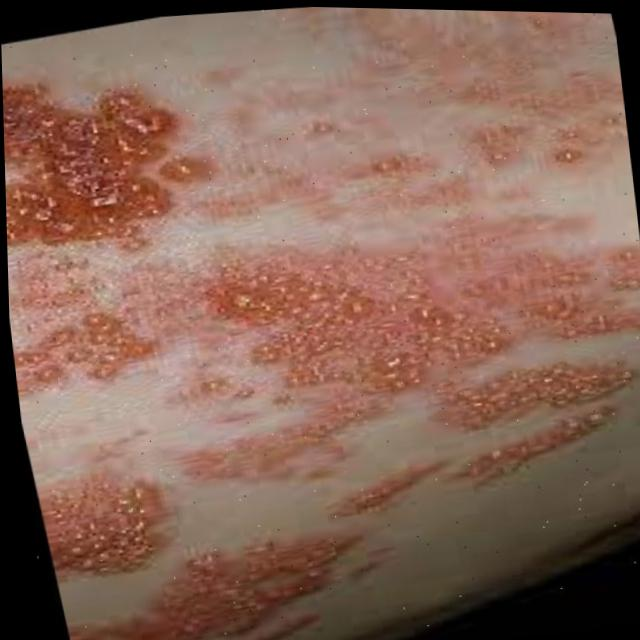Shingles: (1, 23, 640, 640)
